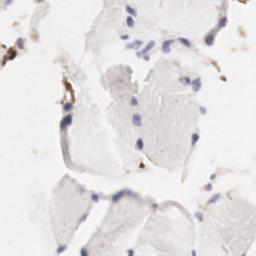nucleus: (136, 41, 154, 57), (159, 39, 175, 55), (109, 187, 127, 201), (60, 114, 73, 127), (193, 76, 203, 92), (78, 211, 90, 223), (126, 4, 137, 17), (134, 138, 144, 152), (178, 37, 192, 47), (208, 193, 222, 203), (125, 41, 142, 48), (57, 242, 68, 252), (208, 171, 219, 181), (133, 114, 142, 126), (191, 134, 199, 146), (130, 94, 138, 106), (15, 38, 23, 50), (79, 246, 88, 256), (217, 18, 227, 26), (182, 76, 191, 84), (127, 17, 134, 27), (64, 103, 72, 111), (196, 211, 203, 220), (126, 250, 136, 256), (91, 193, 97, 201), (200, 105, 205, 113), (6, 1, 14, 6), (120, 35, 129, 39), (144, 55, 150, 61), (191, 250, 197, 256), (208, 38, 213, 45)
positive_cell: (59, 79, 77, 112), (5, 40, 24, 63)
